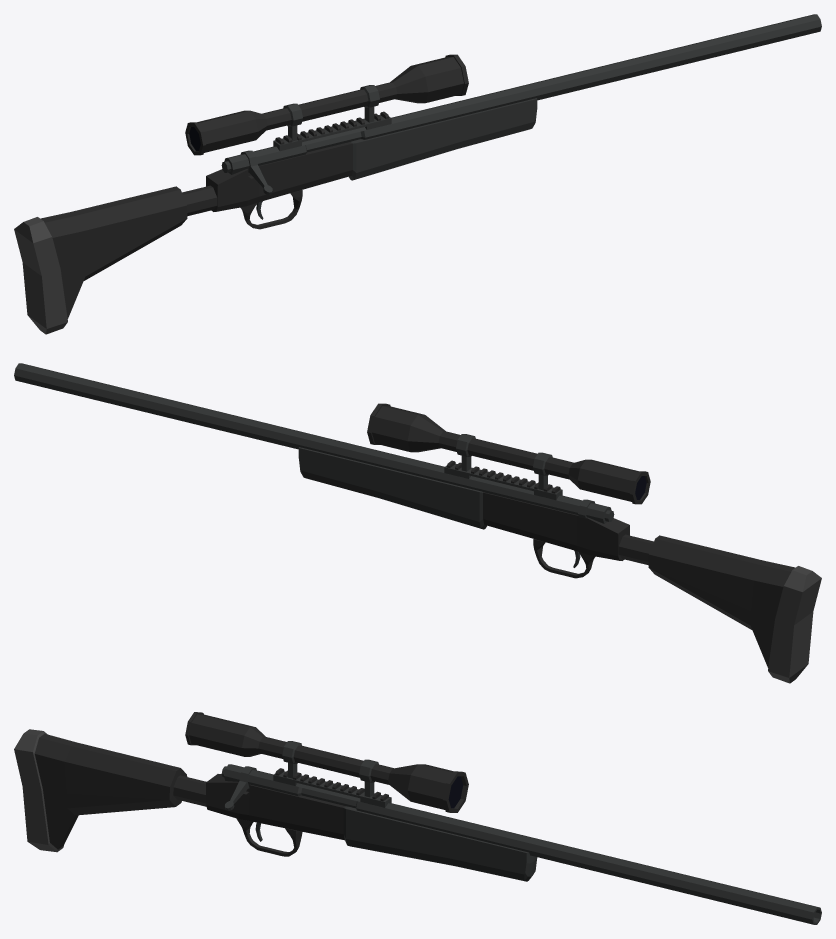
File: quaternius-ultimate-gun-pack-july-sniperrifle-4.glb
3 renders of one model, top to bottom at view 1: azimuth 30°, elevation 25°; view 2: azimuth 150°, elevation 25°; view 3: azimuth 330°, elevation 25°, orthographic.
Visible parts, largest first — view 1: SniperRifle_4; view 2: SniperRifle_4; view 3: SniperRifle_4.
Part boxes in pixels (left/top/right/bottom): SniperRifle_4: left=14, top=14, right=821, bottom=334; SniperRifle_4: left=14, top=363, right=821, bottom=683; SniperRifle_4: left=14, top=712, right=821, bottom=924.
Size of the model in its own units: 6.34 by 1.35 by 0.4594.
1 material, 1 textured.
